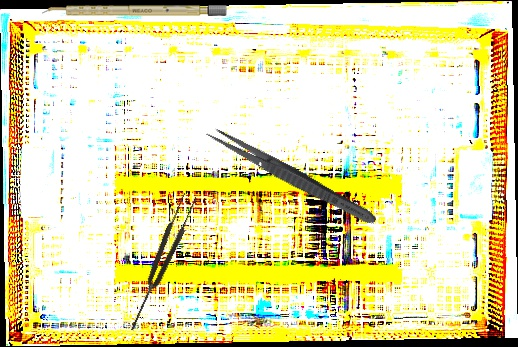Dressing Forceps: (203, 123, 380, 229)
Scalpel Handle: (42, 5, 227, 16)
Tissue Forceps: (122, 191, 200, 334)
